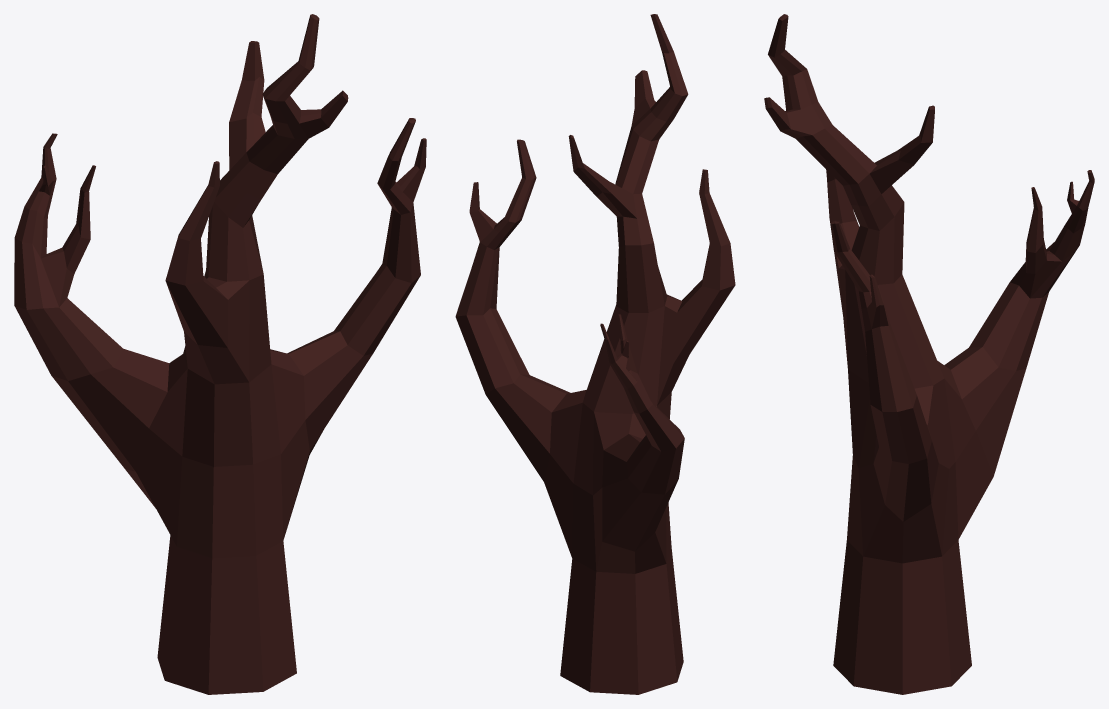
The model's file is Tree2b.fbx.
The picture shows the model from 3 angles, left to right: view 1: azimuth 30°, elevation 25°; view 2: azimuth 150°, elevation 25°; view 3: azimuth 270°, elevation 25°; orthographic projection. The views are drawn at different scales.
Parts seen in each view (by area): view 1: Tree2.001; view 2: Tree2.001; view 3: Tree2.001.
Part boxes in pixels (x1,y1,x2,y2): Tree2.001: (14,14,426,694); Tree2.001: (455,14,735,694); Tree2.001: (764,14,1094,694).
Size of the model in its own units: 1536 by 3107 by 1407.
